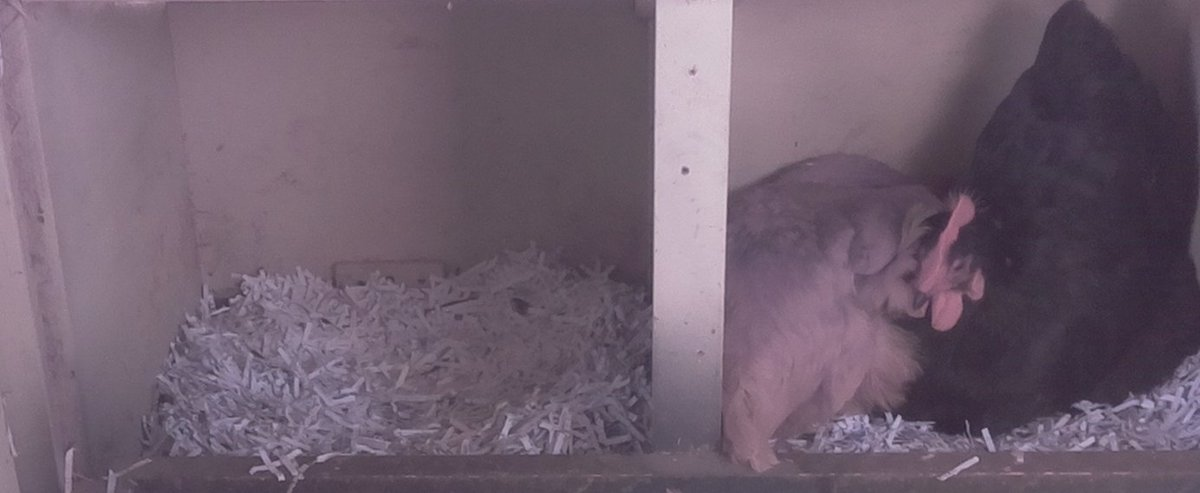hen: (922, 10, 1198, 452), (725, 150, 922, 461)
